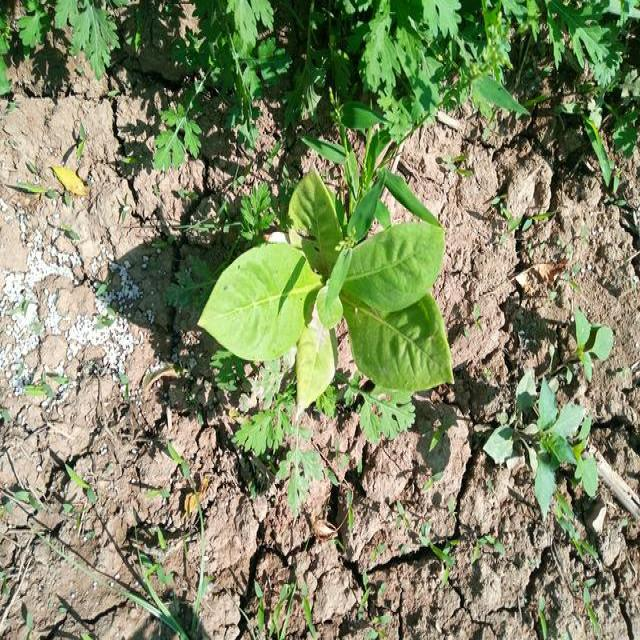crop: (195, 177, 446, 435)
